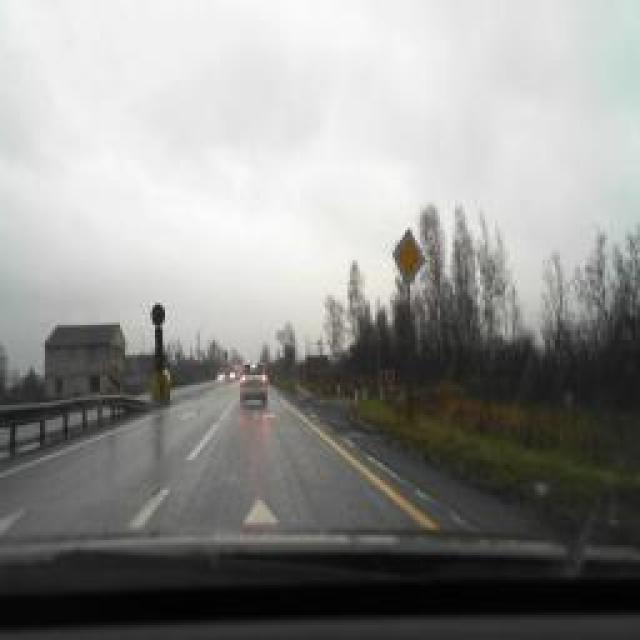sign: (391, 228, 424, 288)
